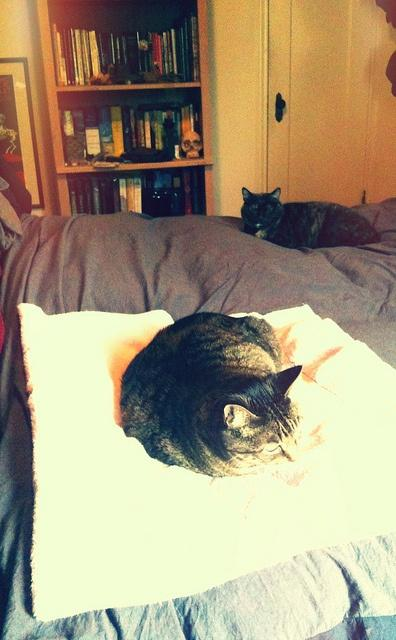Rak: (33, 0, 215, 218)
